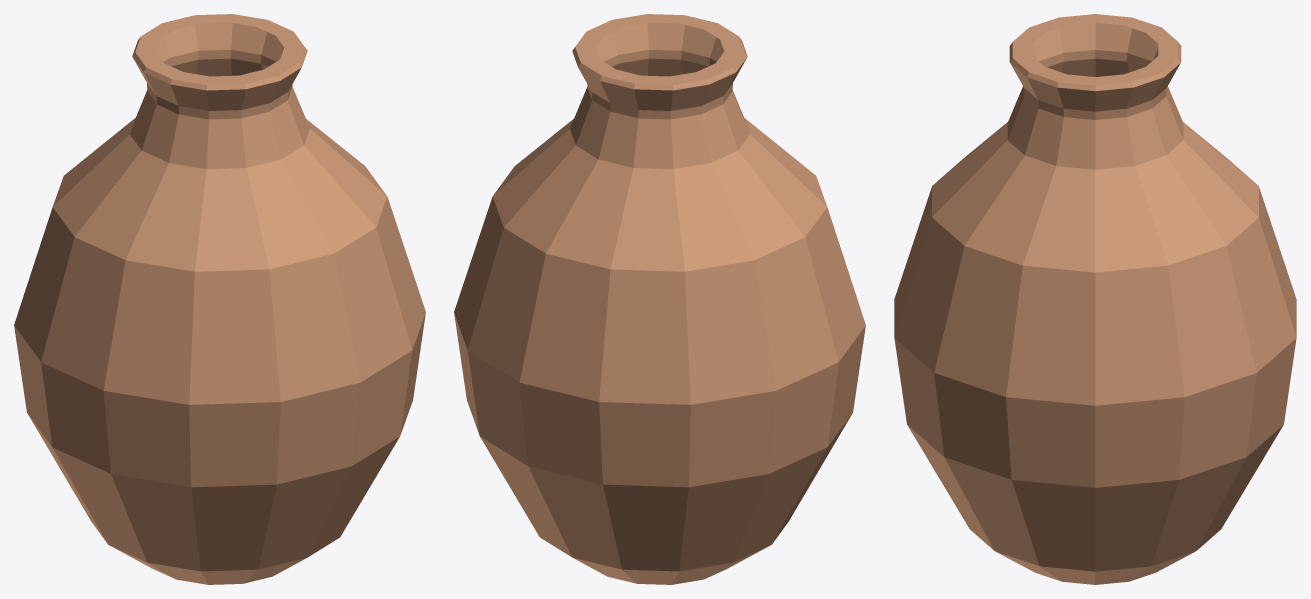
The model's file is SM_DST_Prop_Pot_Clay_L.fbx.
3 renders of one model, left to right at view 1: azimuth 30°, elevation 25°; view 2: azimuth 150°, elevation 25°; view 3: azimuth 270°, elevation 25°, orthographic.
Parts seen in each view (by area): view 1: SM_DST_Prop_Pot_Clay_L.002; view 2: SM_DST_Prop_Pot_Clay_L.002; view 3: SM_DST_Prop_Pot_Clay_L.002.
Boxes of the visible parts, left/top/right/bottom form: SM_DST_Prop_Pot_Clay_L.002: left=14, top=14, right=425, bottom=584; SM_DST_Prop_Pot_Clay_L.002: left=454, top=14, right=865, bottom=584; SM_DST_Prop_Pot_Clay_L.002: left=894, top=14, right=1296, bottom=584.
Size of the model in its own units: 0.64 by 0.86 by 0.624.
